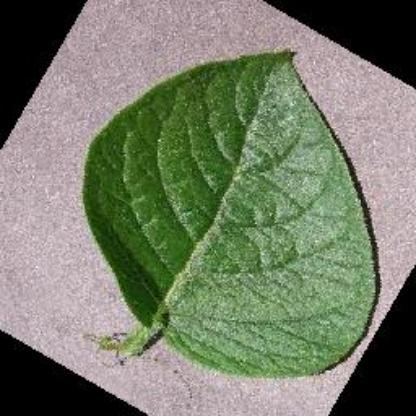Healthy-plant: (64, 17, 390, 397)
